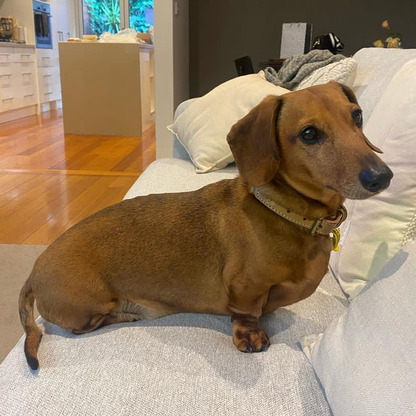dachshund: (28, 54, 398, 371)
